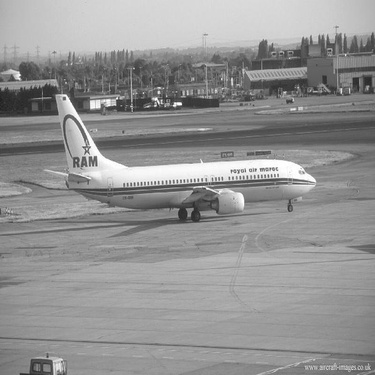airplane: (14, 55, 332, 227)
